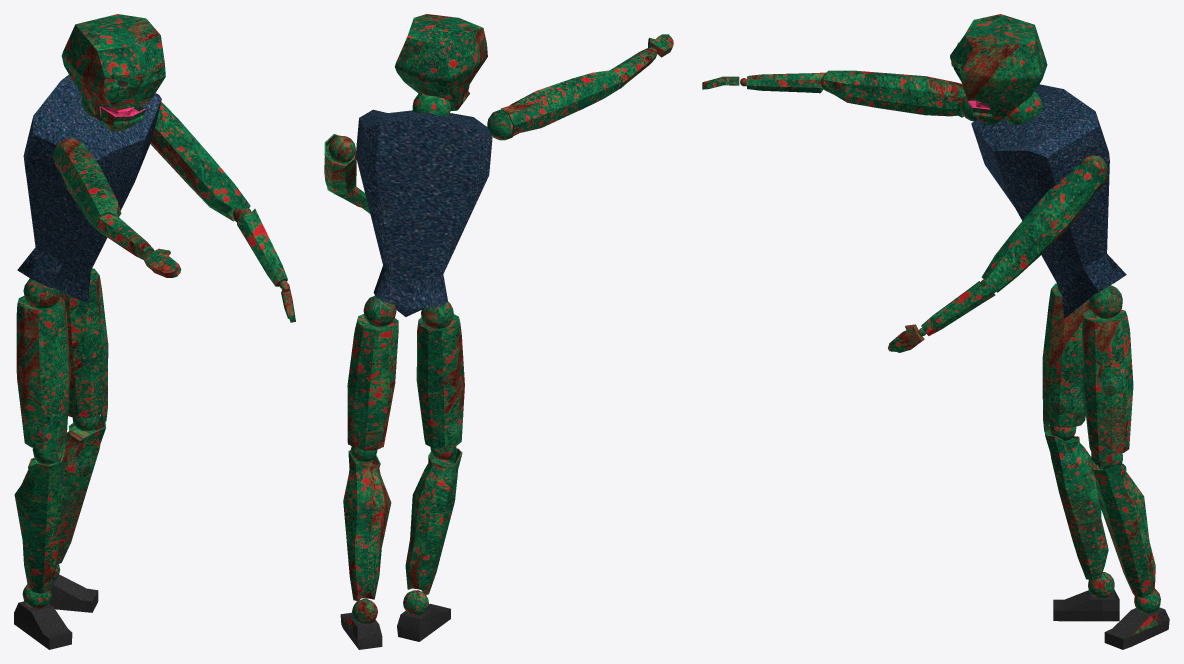
Rendered from sm_zombie.fbx.
The picture shows the model from 3 angles, left to right: view 1: azimuth 30°, elevation 25°; view 2: azimuth 150°, elevation 25°; view 3: azimuth 270°, elevation 25°; orthographic projection. The views are drawn at different scales.
Visible parts, largest first — view 1: polySurface102; view 2: polySurface102; view 3: polySurface102.
Part boxes in pixels (x1,y1,x2,y2): polySurface102: (14,14,295,649); polySurface102: (324,14,673,649); polySurface102: (702,14,1169,649).
Size of the model in its own units: 72.91 by 180 by 128.
